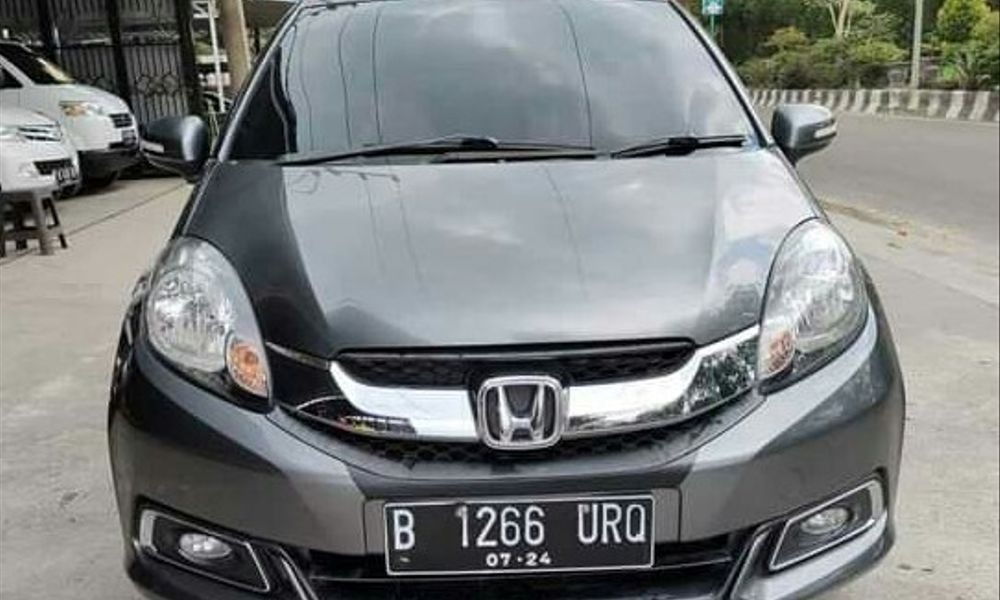plat nomor: (380, 498, 654, 564)
